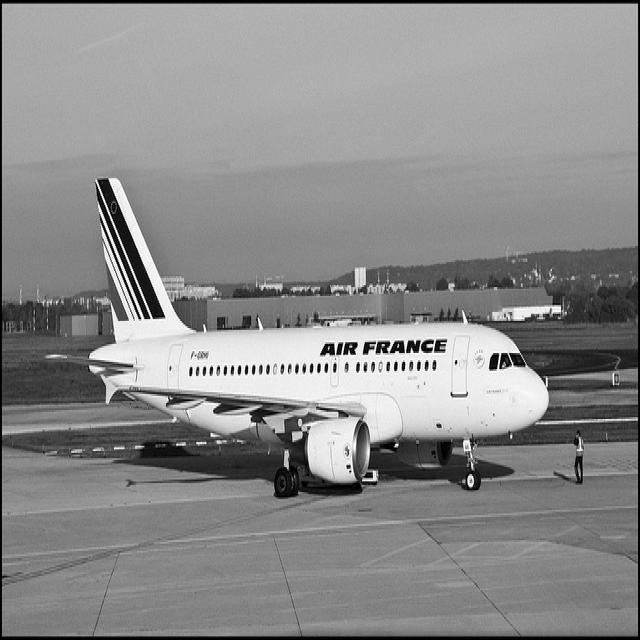airplane: (45, 174, 552, 499)
